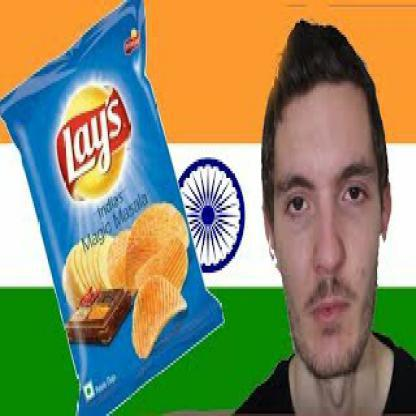indian_magic_masala: (0, 4, 223, 403)
